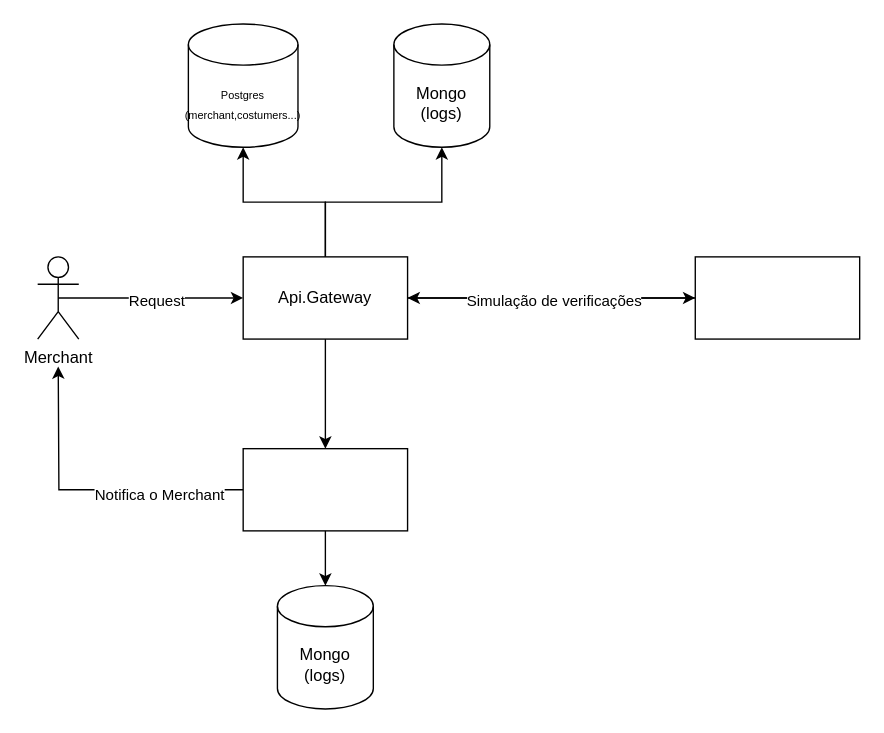
Image size: 884x733. Some labels were removed from this diagram. The centre of each missing label's shape, as x and y in pixels:
"Notification.Service" goes at pixel 325 489.
"PSP.Mock" goes at pixel 777 297.
